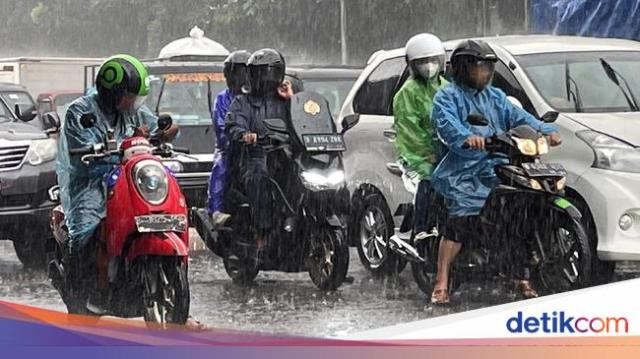helm: (97, 54, 154, 123), (450, 39, 501, 94), (405, 34, 449, 82), (248, 49, 287, 99), (223, 49, 255, 97)
motor: (392, 113, 598, 305), (42, 133, 195, 335), (214, 94, 358, 294)
